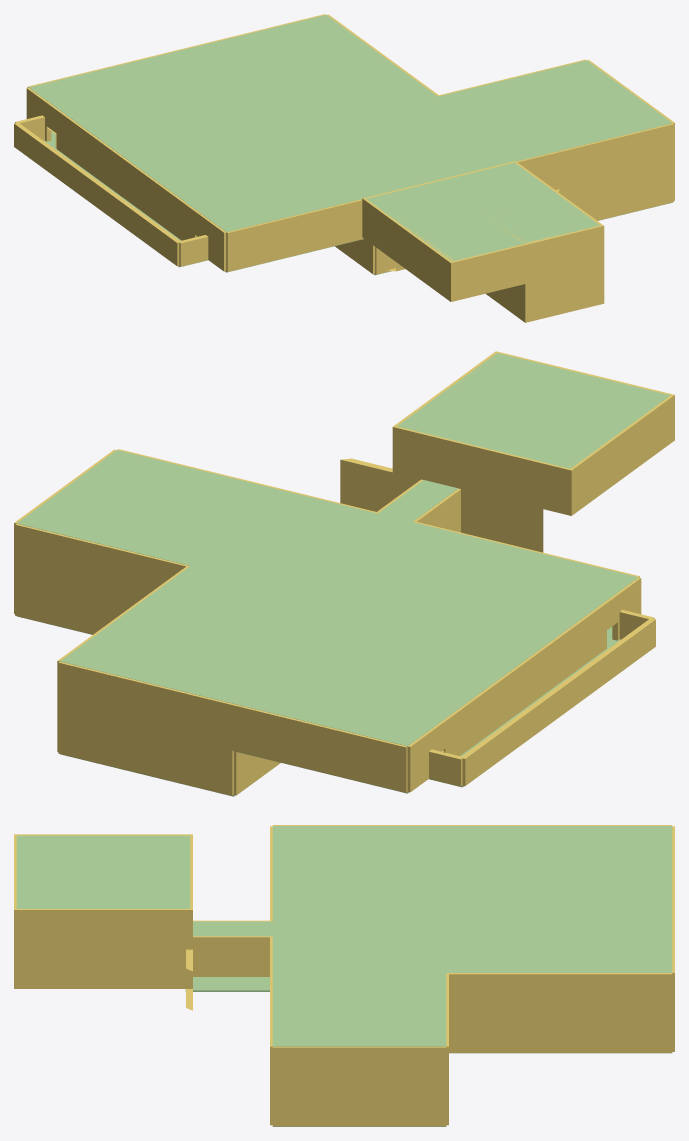
The model's file is levels_merge.fbx.
The picture shows the model from 3 angles, top to bottom: view 1: azimuth 30°, elevation 25°; view 2: azimuth 150°, elevation 25°; view 3: azimuth 270°, elevation 25°; orthographic projection. The views are drawn at different scales.
Parts seen in each view (by area): view 1: Floor_Object1035_mesh_recycled, Floor_Object999_mesh_recycled, Floor_Object1017_mesh_recycled, Floor_Object443_mesh, Wall825_mesh_recycled, Wall818_mesh_recycled, Wall146_mesh_recycled, Wall886_mesh_recycled, Wall117_mesh_recycled, Wall415_mesh_recycled, Wall351_mesh_recycled, Wall198_mesh_recycled (+4 smaller); view 2: Floor_Object1035_mesh_recycled, Floor_Object999_mesh_recycled, Floor_Object1017_mesh_recycled, Floor_Object443_mesh, Wall825_mesh_recycled, Wall832_mesh_recycled, Wall730_mesh_recycled, Wall691_mesh_recycled, Wall132_mesh_recycled, Wall886_mesh_recycled, Wall415_mesh_recycled, Wall103_mesh_recycled (+8 smaller); view 3: Floor_Object1035_mesh_recycled, Floor_Object999_mesh_recycled, Floor_Object1017_mesh_recycled, Floor_Object443_mesh, Wall344_mesh_recycled, Wall139_mesh_recycled, Wall110_mesh_recycled, Wall356_mesh_recycled, Wall737_mesh_recycled, Wall88_mesh_recycled, Wall589_mesh_recycled, Wall191_mesh_recycled (+4 smaller).
Part boxes in pixels (x1,y1,x2,y2): Floor_Object1035_mesh_recycled: [29, 51, 374, 231]; Floor_Object999_mesh_recycled: [290, 60, 672, 195]; Floor_Object1017_mesh_recycled: [178, 15, 437, 132]; Floor_Object443_mesh: [366, 162, 600, 261]; Wall825_mesh_recycled: [26, 87, 226, 271]; Wall818_mesh_recycled: [226, 199, 363, 271]; Wall146_mesh_recycled: [524, 123, 673, 190]; Wall886_mesh_recycled: [14, 122, 181, 266]; Wall117_mesh_recycled: [560, 163, 673, 220]; Wall415_mesh_recycled: [362, 198, 452, 301]; Wall351_mesh_recycled: [526, 225, 604, 283]; Wall198_mesh_recycled: [525, 265, 604, 322]; Floor_Object1035_mesh_recycled: [234, 535, 638, 746]; Floor_Object999_mesh_recycled: [17, 450, 464, 607]; Floor_Object1017_mesh_recycled: [60, 566, 363, 703]; Floor_Object443_mesh: [397, 353, 670, 468]; Wall825_mesh_recycled: [407, 577, 641, 792]; Wall832_mesh_recycled: [232, 704, 407, 792]; Wall730_mesh_recycled: [58, 661, 233, 750]; Wall691_mesh_recycled: [58, 708, 233, 795]; Wall132_mesh_recycled: [15, 523, 187, 600]; Wall886_mesh_recycled: [460, 618, 655, 785]; Wall415_mesh_recycled: [569, 395, 674, 515]; Wall103_mesh_recycled: [15, 570, 139, 634]; Floor_Object1035_mesh_recycled: [272, 826, 672, 899]; Floor_Object999_mesh_recycled: [272, 899, 446, 1046]; Floor_Object1017_mesh_recycled: [446, 899, 672, 972]; Floor_Object443_mesh: [16, 835, 190, 908]; Wall344_mesh_recycled: [14, 909, 192, 949]; Wall139_mesh_recycled: [272, 1046, 446, 1086]; Wall110_mesh_recycled: [272, 1087, 446, 1126]; Wall356_mesh_recycled: [449, 1013, 620, 1052]; Wall737_mesh_recycled: [516, 973, 672, 1013]; Wall88_mesh_recycled: [86, 949, 192, 988]; Wall589_mesh_recycled: [193, 936, 269, 976]; Wall191_mesh_recycled: [14, 949, 85, 988].
Bounding box in the file's own units: 3230 × 760 × 3803.
